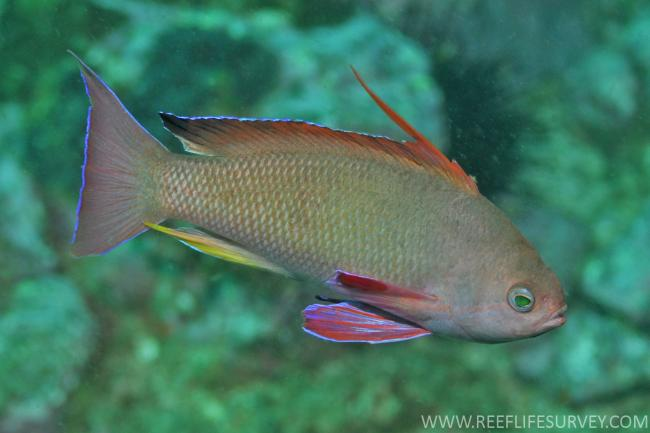fish: (67, 49, 570, 345)
